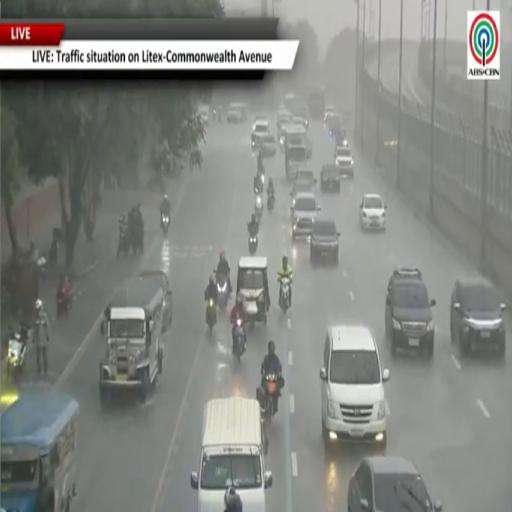car: (320, 326, 389, 449), (348, 457, 442, 511), (385, 268, 435, 358), (450, 280, 506, 356), (310, 219, 340, 263), (292, 192, 320, 239), (360, 194, 386, 230), (291, 182, 314, 215), (334, 144, 353, 178), (252, 134, 276, 157), (321, 164, 340, 193), (292, 170, 316, 191), (227, 103, 247, 123), (277, 107, 292, 132), (252, 119, 269, 141), (325, 112, 342, 134), (198, 105, 209, 125), (324, 105, 335, 123), (291, 117, 308, 127)
jeepney: (100, 271, 171, 405), (0, 391, 79, 511), (237, 256, 268, 326)
motorcycle: (6, 324, 30, 380), (265, 374, 278, 423), (233, 318, 245, 362), (57, 286, 74, 316), (31, 249, 47, 279), (216, 275, 229, 310), (279, 277, 291, 313), (117, 229, 130, 258), (206, 298, 217, 332), (36, 254, 47, 279), (254, 194, 263, 220), (161, 214, 170, 234), (249, 234, 257, 255), (267, 194, 275, 212), (259, 171, 264, 186)
truck: (283, 123, 311, 179)
